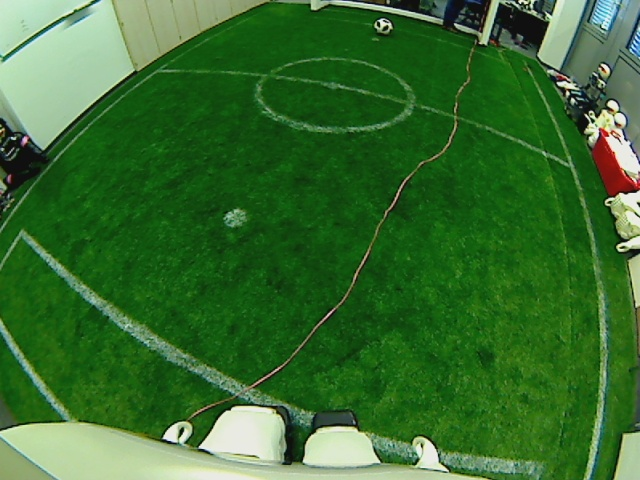ball: (374, 16, 394, 37)
